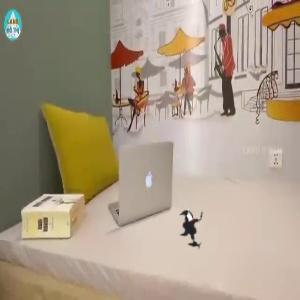drone: (164, 198, 227, 261)
